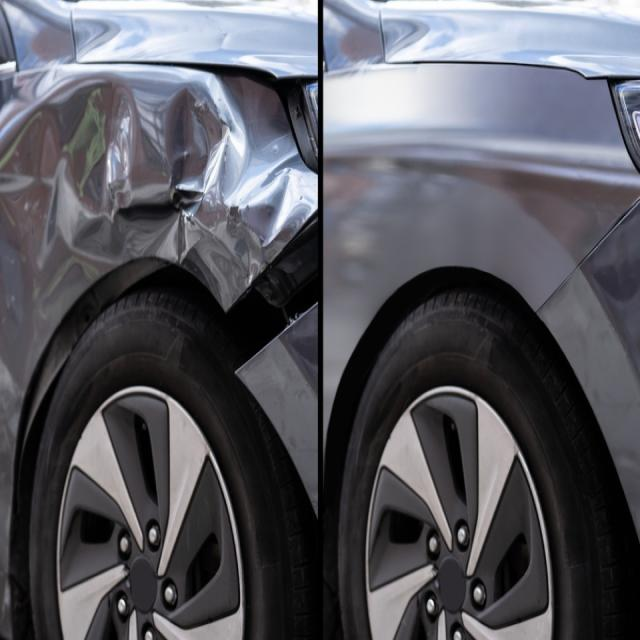crush: (0, 0, 316, 637)
